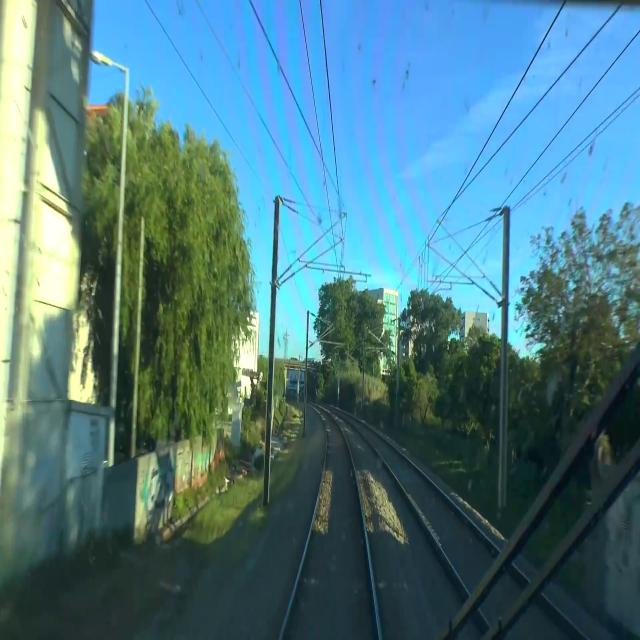rail-track: (361, 425, 581, 639), (282, 413, 377, 639)
